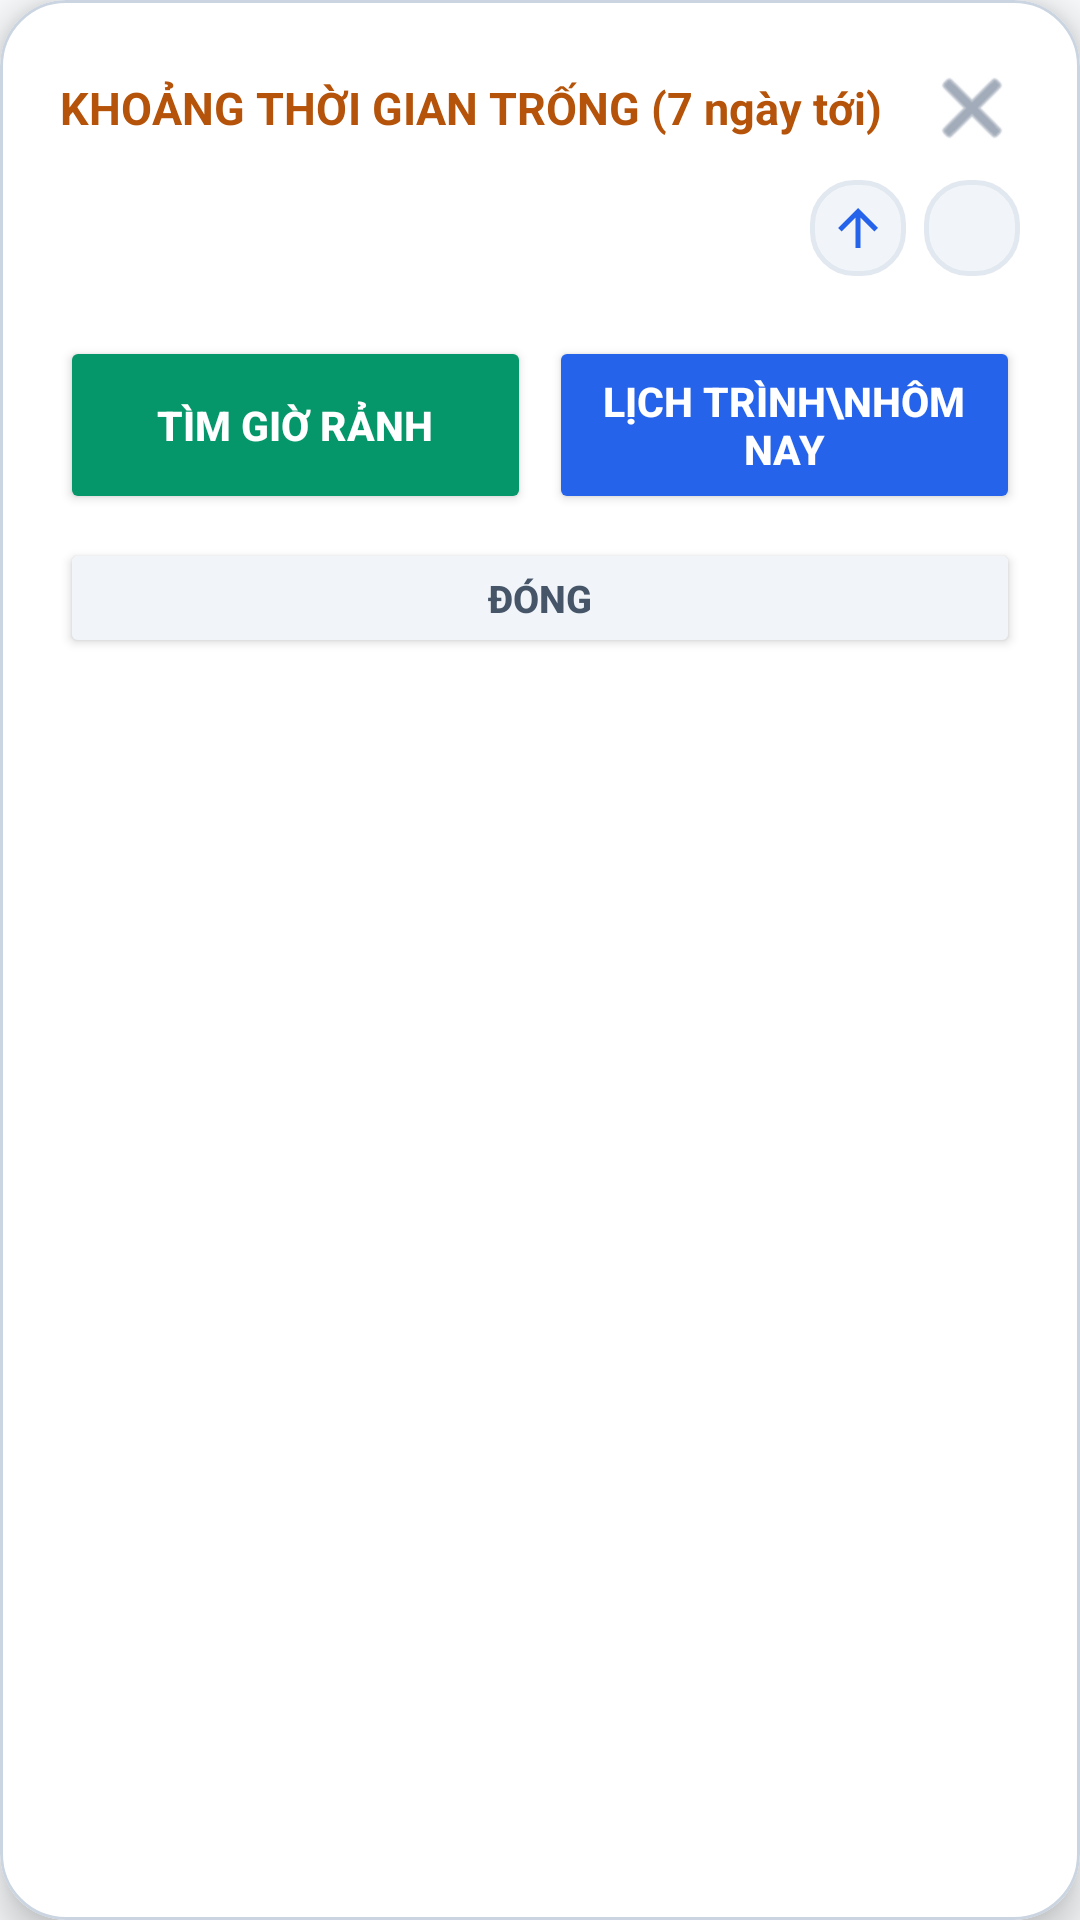

Point at icon controls on the screen. Image size 1080x1920, points as (x,y).
Lên đầu: (858,228)
Đóng: (972,108)
